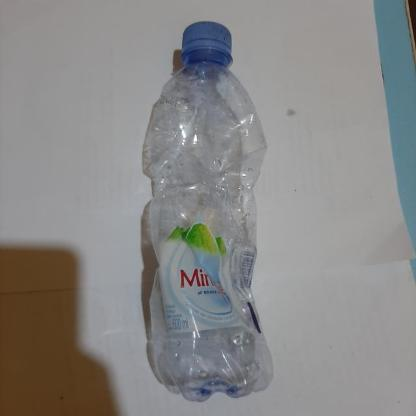Plastic Bottle: (144, 22, 272, 402)
